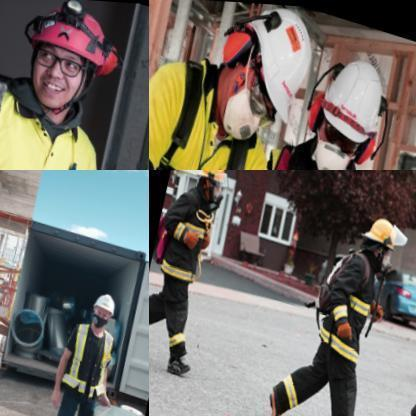vest: (306, 244, 389, 360), (149, 183, 224, 290), (58, 312, 117, 395)
